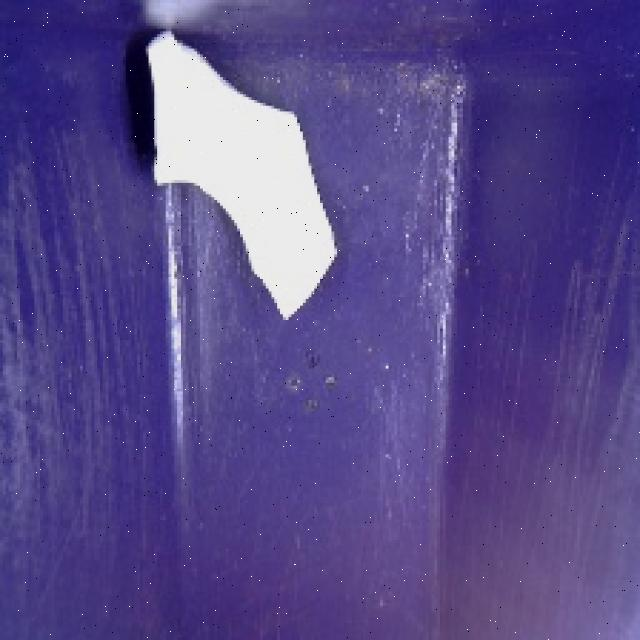china: (116, 21, 348, 330)
